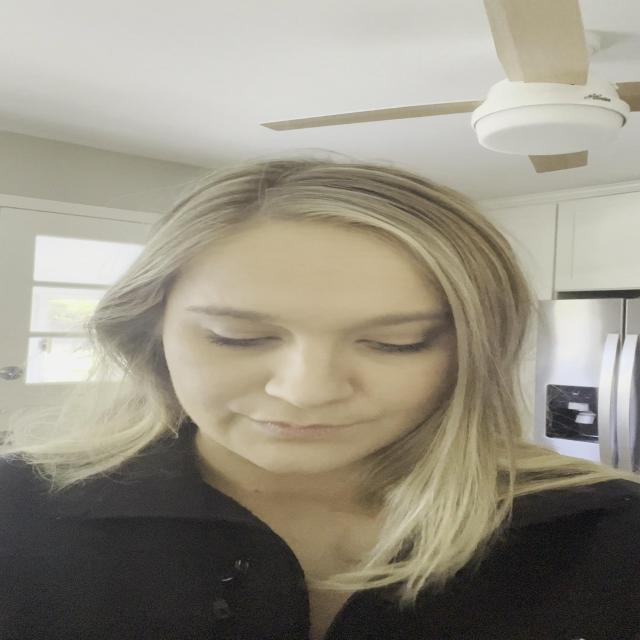no hat: (156, 200, 454, 477)
